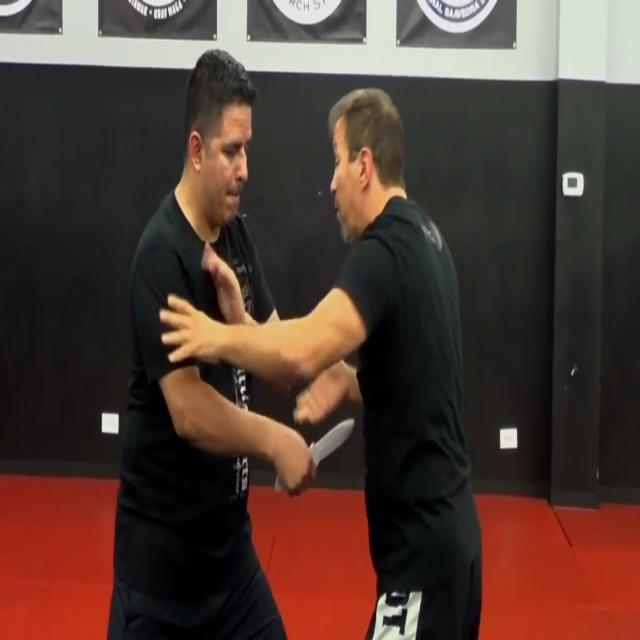knife: (311, 415, 357, 473)
